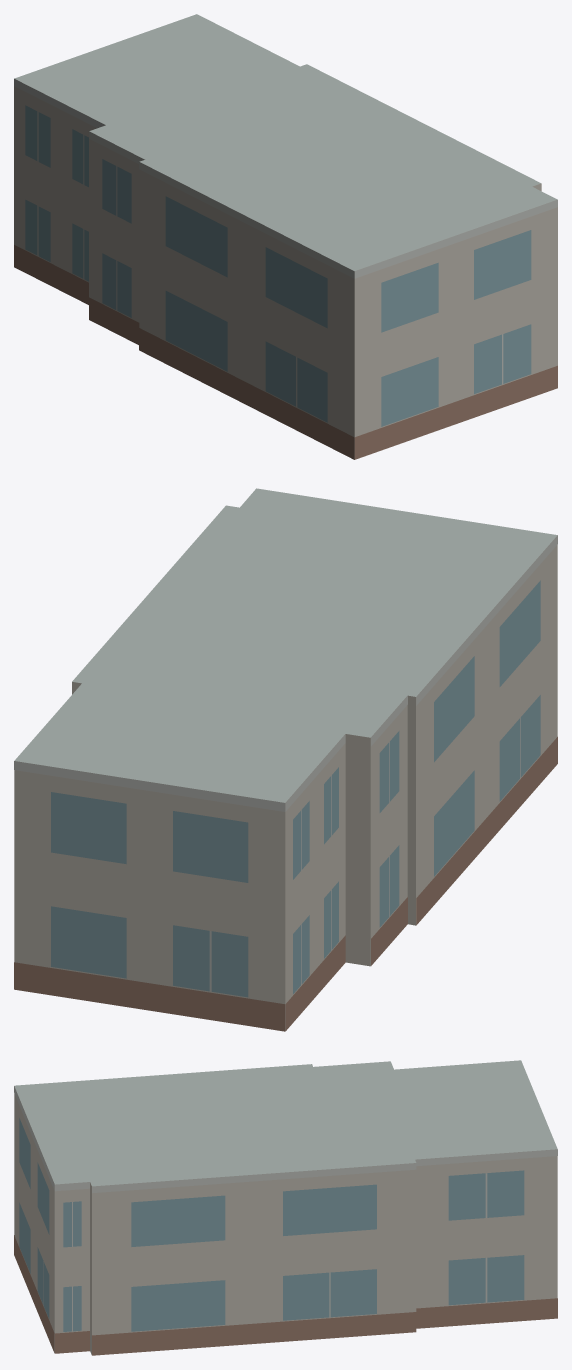
Rendered from survey-upis-32708434.glb.
3 renders of one model, top to bottom at view 1: azimuth 30°, elevation 25°; view 2: azimuth 150°, elevation 25°; view 3: azimuth 270°, elevation 25°, orthographic. The views are drawn at different scales.
Parts seen in each view (by area): view 1: survey-upis-32708434.tmp; view 2: survey-upis-32708434.tmp; view 3: survey-upis-32708434.tmp.
Part boxes in pixels (left/top/right/bottom): survey-upis-32708434.tmp: left=14, top=14, right=557, bottom=459; survey-upis-32708434.tmp: left=14, top=488, right=557, bottom=1031; survey-upis-32708434.tmp: left=14, top=1060, right=557, bottom=1355.
Size of the model in its own units: 9.77 by 6.1 by 17.77.
